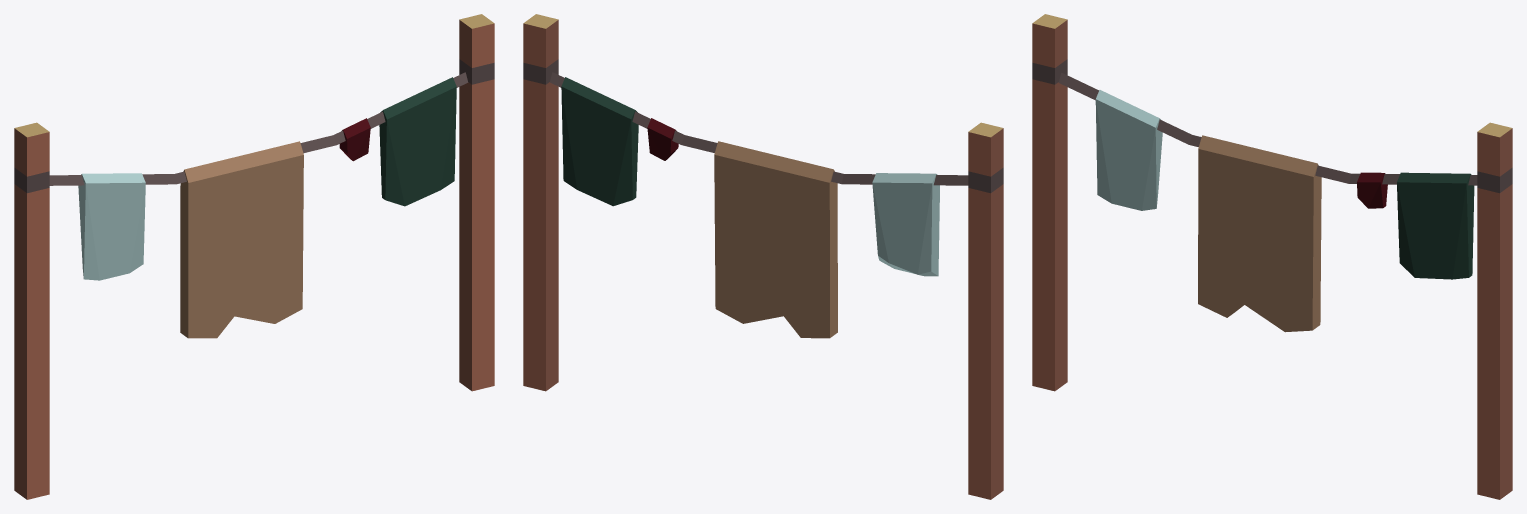
The model's file is TB_Prop_Loundry_A.FBX.
The picture shows the model from 3 angles, left to right: view 1: azimuth 30°, elevation 25°; view 2: azimuth 150°, elevation 25°; view 3: azimuth 330°, elevation 25°; orthographic projection.
Visible parts, largest first — view 1: TB_Prop_Loundry_A; view 2: TB_Prop_Loundry_A; view 3: TB_Prop_Loundry_A.
Part boxes in pixels (box(x1,y1,x2,y2)): TB_Prop_Loundry_A: box(14, 14, 494, 499); TB_Prop_Loundry_A: box(523, 14, 1003, 499); TB_Prop_Loundry_A: box(1032, 14, 1512, 499).
Bounding box in the file's own units: 3.53 × 2.62 × 0.1678.
